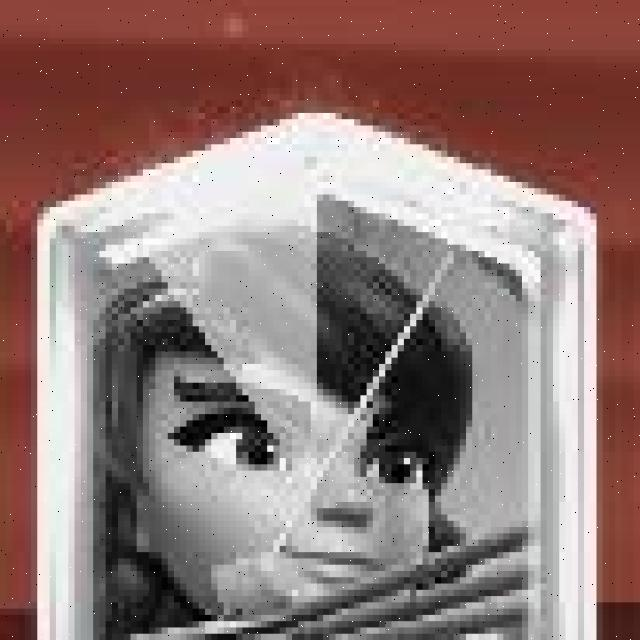Princess: (43, 122, 591, 640)
